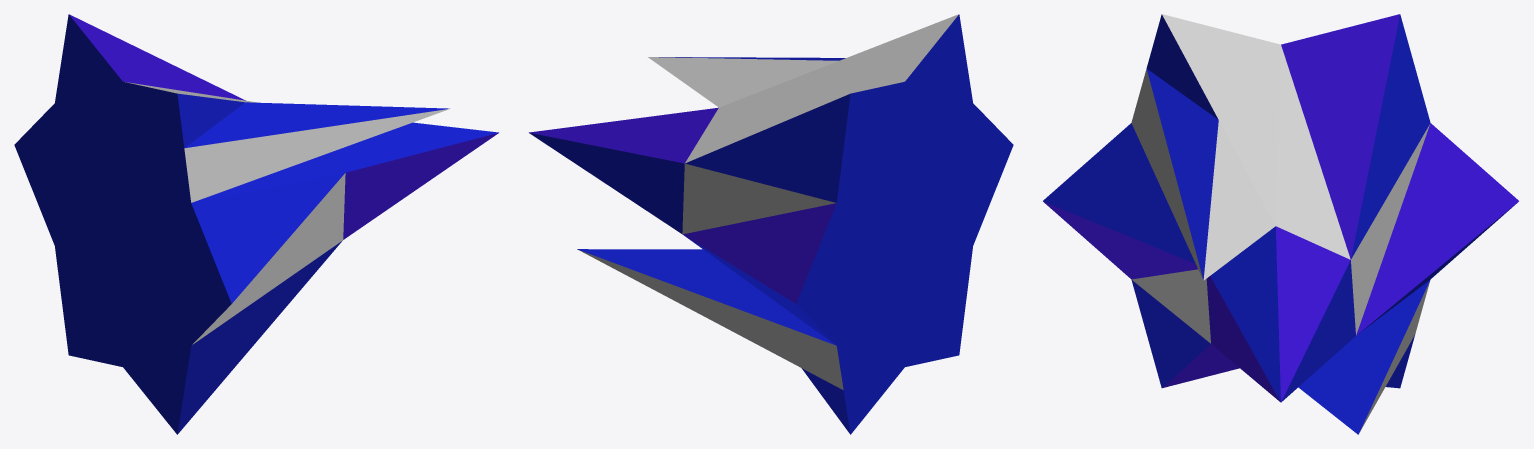
The model's file is enemy6.obj.
3 renders of one model, left to right at view 1: azimuth 30°, elevation 25°; view 2: azimuth 150°, elevation 25°; view 3: azimuth 270°, elevation 25°, orthographic. The views are drawn at different scales.
Visible parts, largest first — view 1: Cone; view 2: Cone; view 3: Cone.
Boxes of the visible parts, left/top/right/bottom form: Cone: left=14, top=14, right=498, bottom=434; Cone: left=529, top=14, right=1013, bottom=434; Cone: left=1043, top=14, right=1518, bottom=434.
Size of the model in its own units: 2 by 1.73 by 2.
